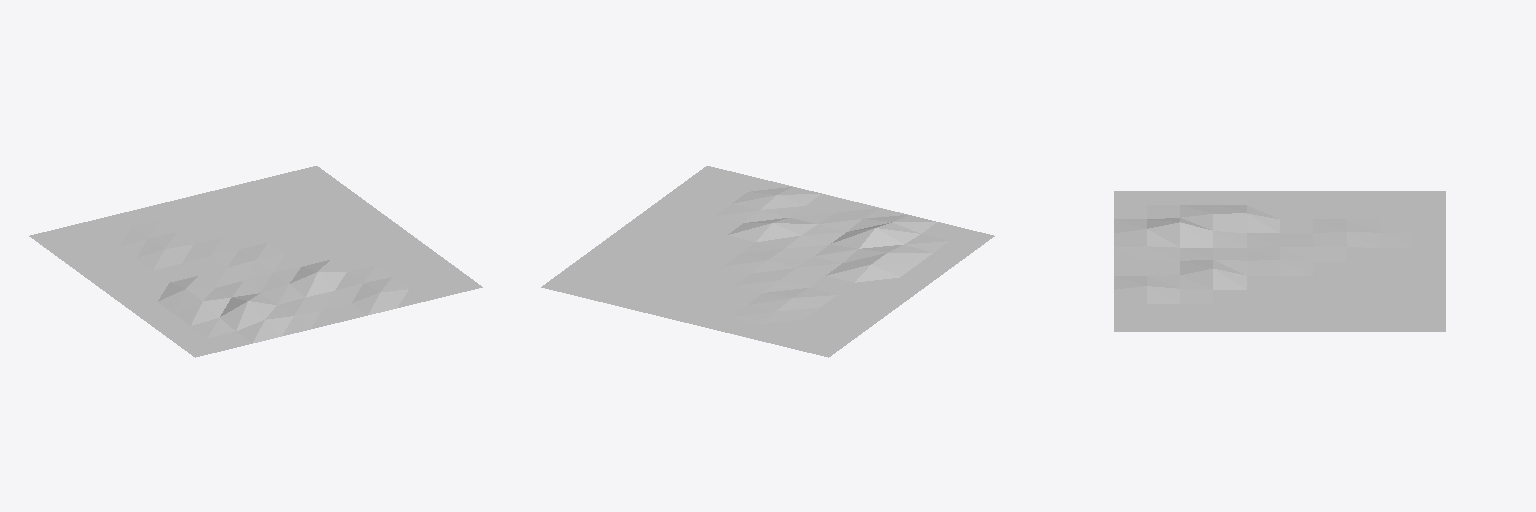
The model's file is tuoni.obj.
3 renders of one model, left to right at view 1: azimuth 30°, elevation 25°; view 2: azimuth 150°, elevation 25°; view 3: azimuth 270°, elevation 25°, orthographic.
Parts seen in each view (by area): view 1: Grid; view 2: Grid; view 3: Grid.
Boxes of the visible parts, box(x1,y1,x2,y2) form: Grid: box(29, 166, 482, 357); Grid: box(541, 166, 994, 357); Grid: box(1114, 191, 1445, 331).
Bounding box in the file's own units: 2 × 0.0747 × 2.